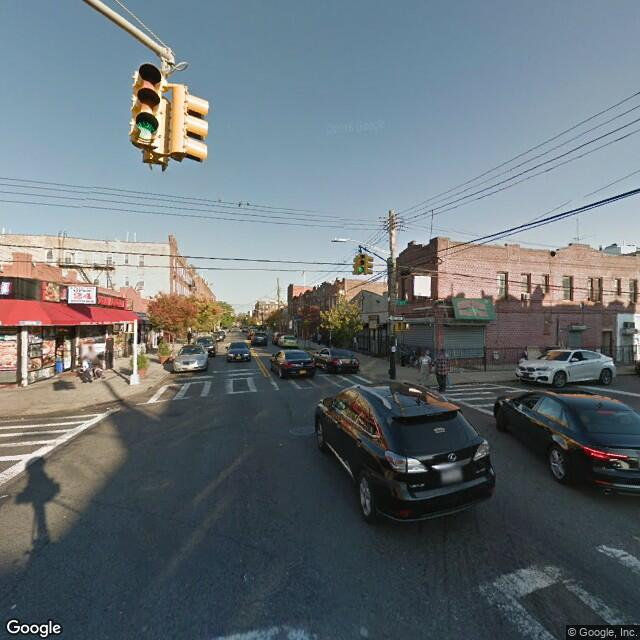litter: (103, 402, 123, 415)
